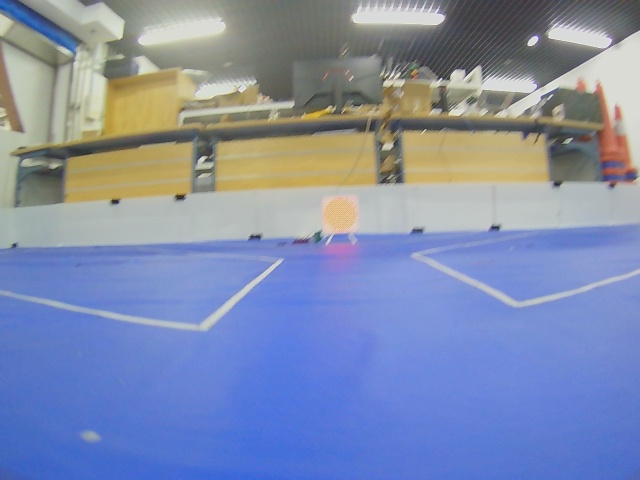red: (322, 196, 359, 234)
